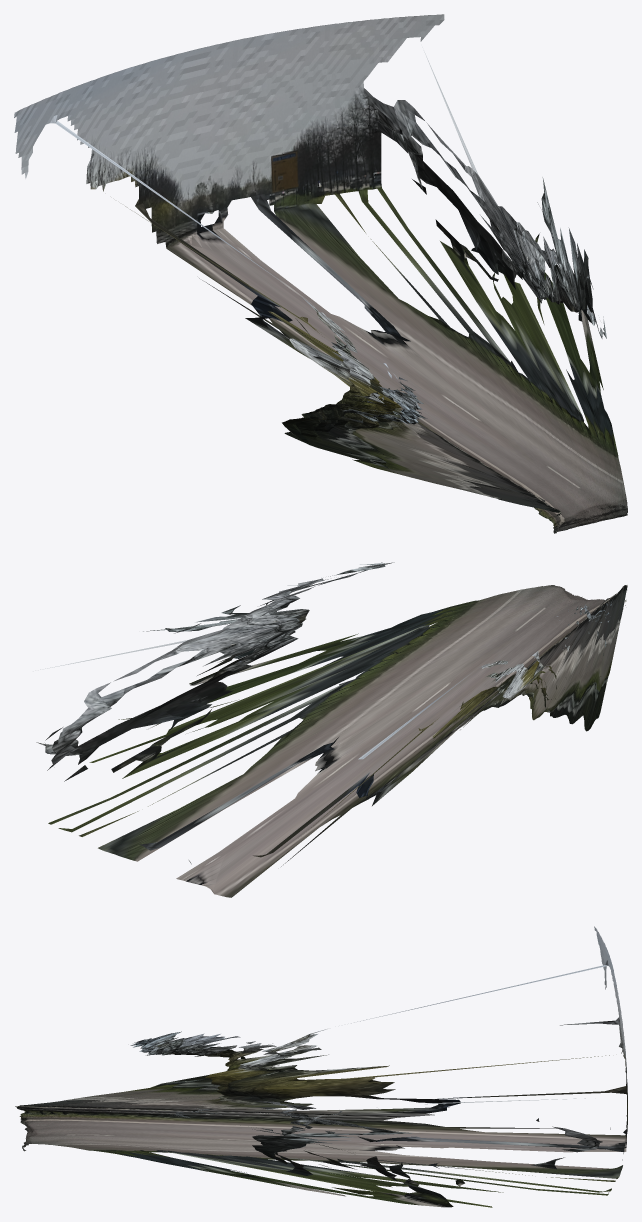
3 views of the same model, one above another, from view 1: azimuth 30°, elevation 25°; view 2: azimuth 150°, elevation 25°; view 3: azimuth 270°, elevation 25° (orthographic). The views are drawn at different scales.
Visible parts, largest first — view 1: defaultobject; view 2: defaultobject; view 3: defaultobject.
Part boxes in pixels (left/top/right/bottom): defaultobject: left=14, top=14, right=627, bottom=533; defaultobject: left=33, top=562, right=627, bottom=897; defaultobject: left=15, top=926, right=627, bottom=1207.
Size of the model in its own units: 27.48 by 12.09 by 44.99.
Materials: 1 (1 with a texture image).
